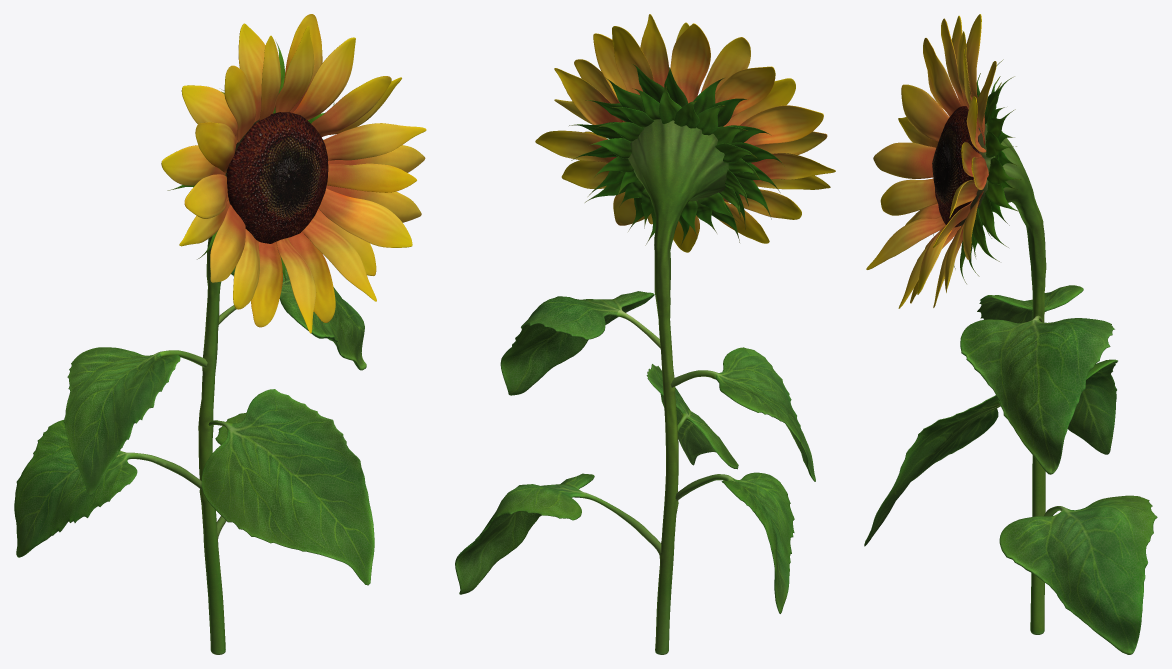
Rendered from Sunflower.glb.
3 views of the same model, side by side, from view 1: azimuth 30°, elevation 25°; view 2: azimuth 150°, elevation 25°; view 3: azimuth 270°, elevation 25° (orthographic). The views are drawn at different scales.
Visible parts, largest first — view 1: sunflower.1; view 2: sunflower.1; view 3: sunflower.1.
Part boxes in pixels (<box>): sunflower.1: <box>14,14,426,654</box>; sunflower.1: <box>455,14,835,654</box>; sunflower.1: <box>864,14,1157,654</box>.
Size of the model in its own units: 0.0239 by 0.0444 by 0.0191.
1 material, 1 textured.
